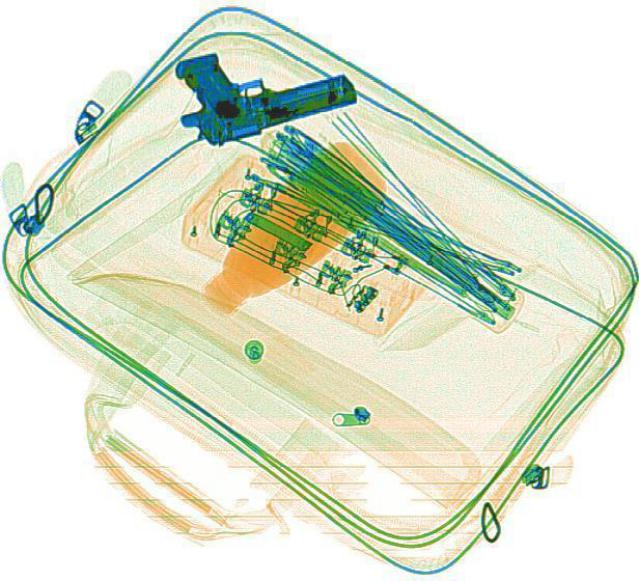Gun: (156, 18, 361, 152)
